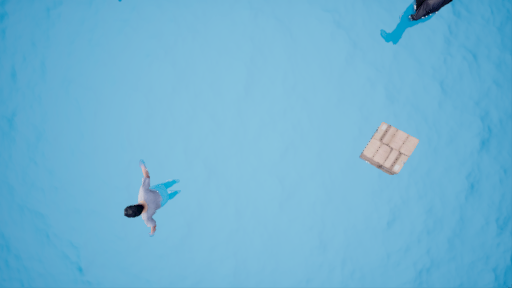person: (118, 156, 185, 237)
